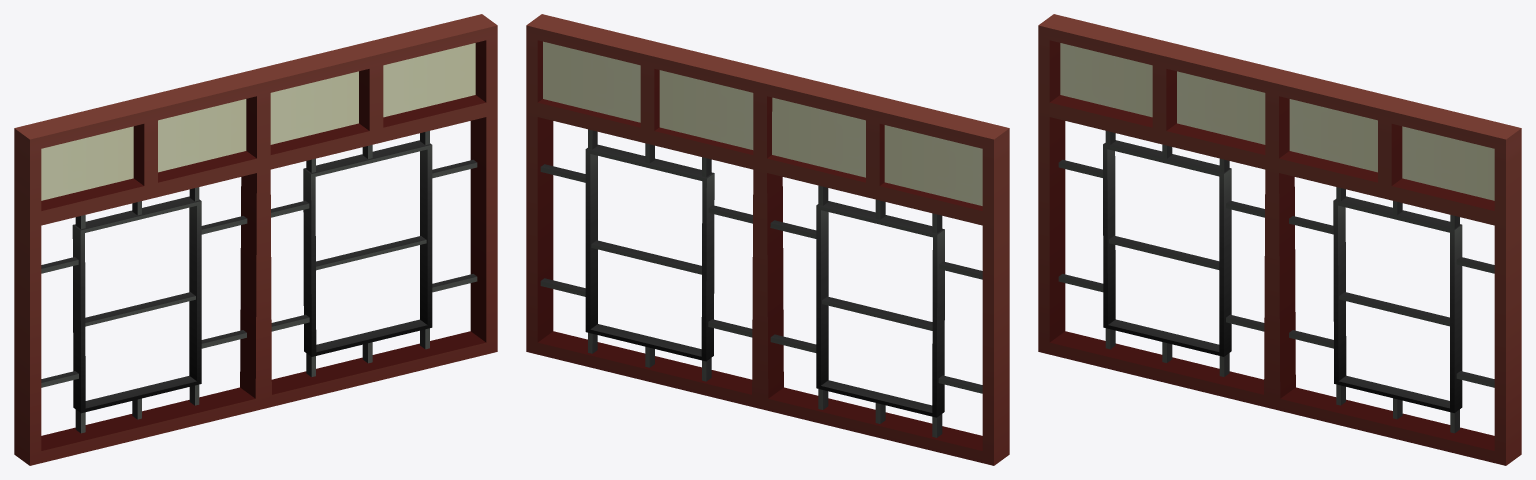
File: SM_Window_01.fbx
3 views of the same model, side by side, from view 1: azimuth 30°, elevation 25°; view 2: azimuth 150°, elevation 25°; view 3: azimuth 330°, elevation 25° (orthographic).
Parts seen in each view (by area): view 1: SM_Window_01; view 2: SM_Window_01; view 3: SM_Window_01.
Part boxes in pixels (x1=…): SM_Window_01: x1=14, y1=14, x2=497, y2=465; SM_Window_01: x1=526, y1=14, x2=1009, y2=465; SM_Window_01: x1=1038, y1=14, x2=1521, y2=465.
Bounding box in the file's own units: 2.25 × 1.5 × 0.1303.
